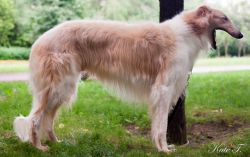borzoi: (12, 4, 245, 154)
